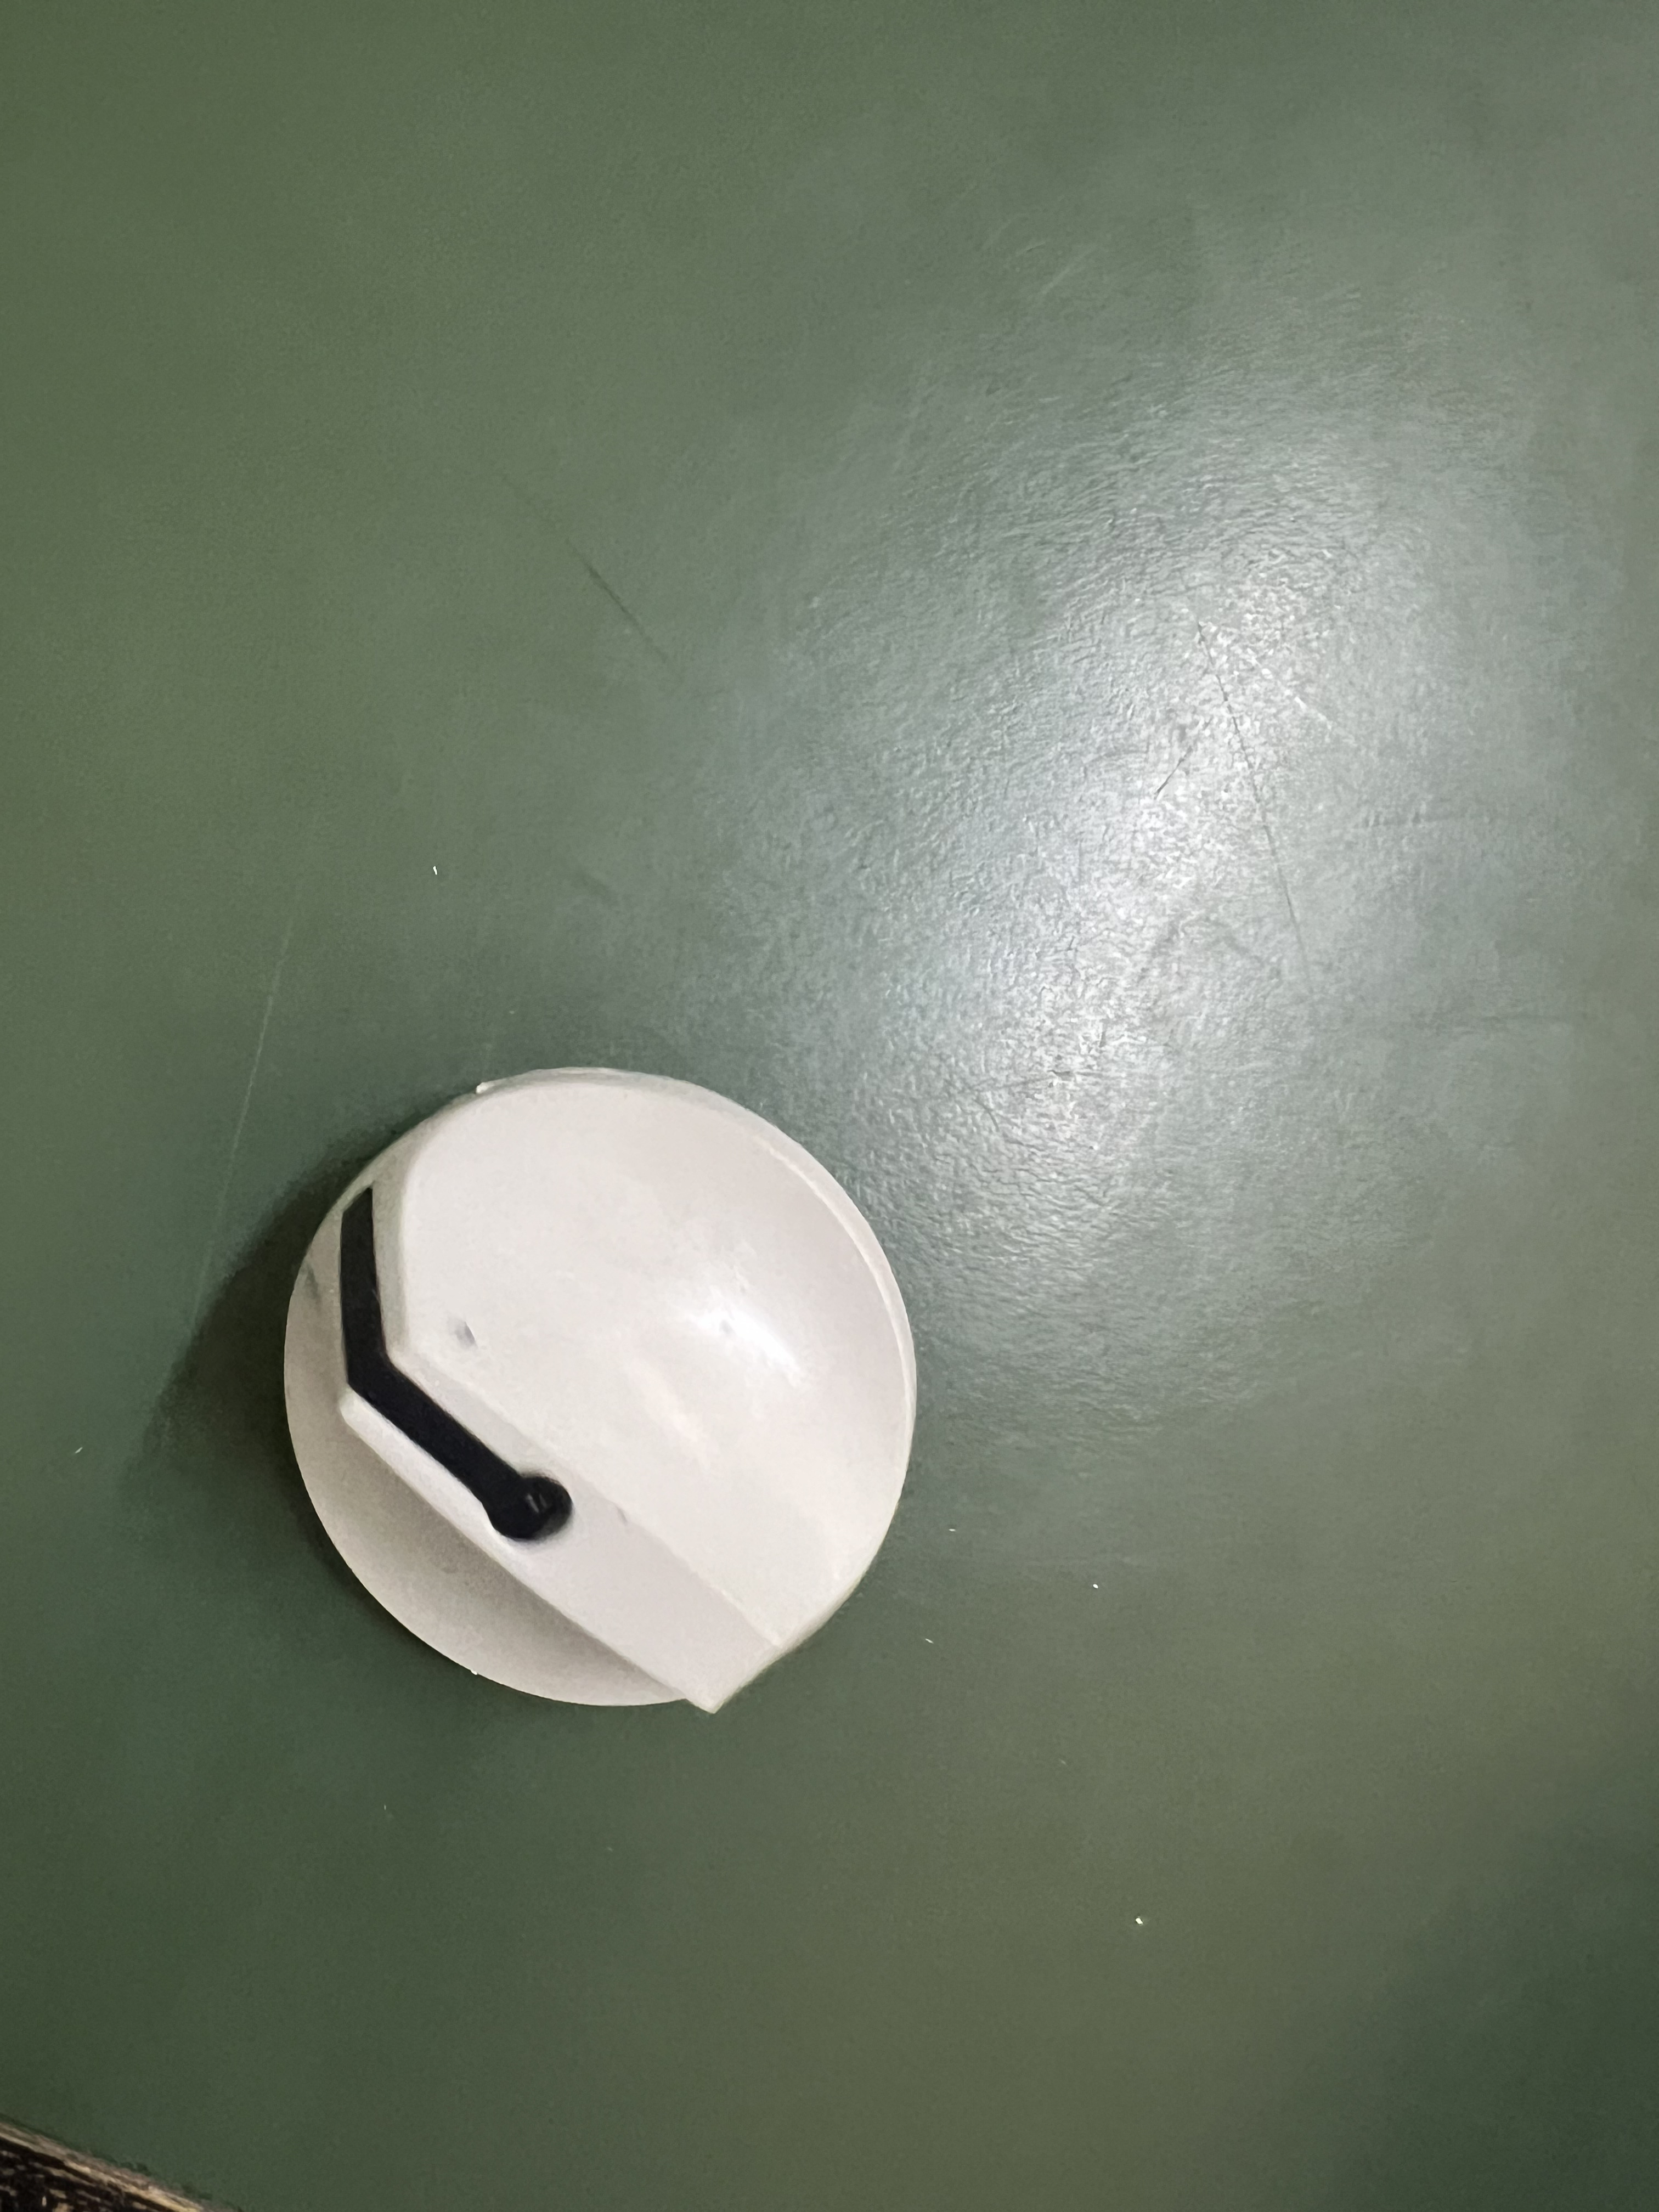regulator: (286, 1040, 957, 1698)
